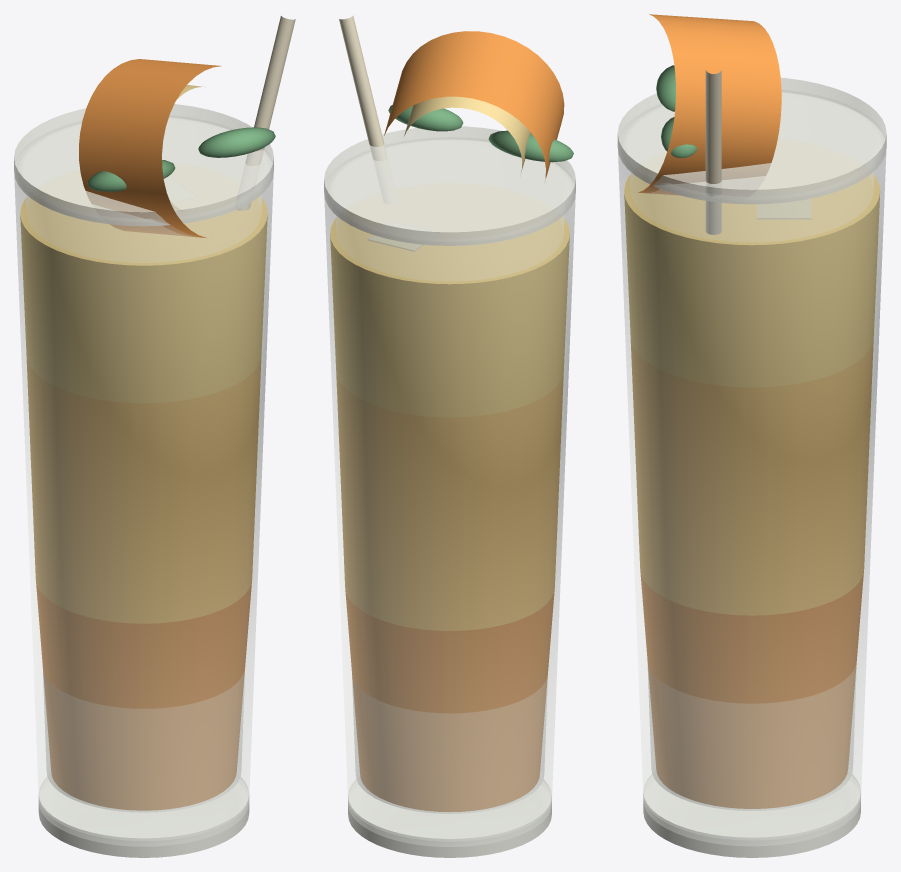
Rendered from cocktail-orange.glb.
The picture shows the model from 3 angles, left to right: view 1: azimuth 30°, elevation 25°; view 2: azimuth 150°, elevation 25°; view 3: azimuth 270°, elevation 25°; orthographic projection. The views are drawn at different scales.
Visible parts, largest first — view 1: Verre haut, Cocktail (×3), Bord du verre, Rondelle d’orange, Bague du pied, Pied du verre, Feuille de menthe (×2), Paille; view 2: Verre haut, Cocktail (×3), Bord du verre, Rondelle d’orange, Bague du pied, Pied du verre, Feuille de menthe (×2), Paille, Chair d’orange; view 3: Verre haut, Cocktail (×3), Bord du verre, Rondelle d’orange, Bague du pied, Pied du verre, Paille, Feuille de menthe (×2), Glaçon.
Part boxes in pixels (left/top/right/bottom): Verre haut: left=14, top=115, right=273, bottom=846; Cocktail (×3): left=20, top=196, right=267, bottom=810; Bord du verre: left=14, top=104, right=273, bottom=226; Rondelle d’orange: left=79, top=59, right=221, bottom=238; Bague du pied: left=38, top=774, right=249, bottom=857; Pied du verre: left=38, top=779, right=249, bottom=857; Feuille de menthe (×2): left=87, top=127, right=275, bottom=191; Paille: left=237, top=16, right=295, bottom=210; Verre haut: left=324, top=137, right=575, bottom=846; Cocktail (×3): left=330, top=216, right=569, bottom=811; Bord du verre: left=324, top=126, right=575, bottom=245; Rondelle d’orange: left=384, top=31, right=564, bottom=181; Bague du pied: left=348, top=776, right=551, bottom=857; Pied du verre: left=348, top=782, right=551, bottom=857; Feuille de menthe (×2): left=388, top=105, right=573, bottom=162; Paille: left=339, top=15, right=387, bottom=161; Chair d’orange: left=404, top=96, right=530, bottom=172; Verre haut: left=618, top=90, right=886, bottom=845; Cocktail (×3): left=624, top=173, right=880, bottom=808; Bord du verre: left=617, top=77, right=886, bottom=204; Rondelle d’orange: left=634, top=14, right=781, bottom=195; Bague du pied: left=643, top=770, right=860, bottom=857; Pied du verre: left=643, top=776, right=860, bottom=857; Paille: left=705, top=69, right=721, bottom=234; Feuille de menthe (×2): left=656, top=65, right=697, bottom=158; Glaçon: left=757, top=199, right=810, bottom=219.
Size of the model in its own units: 0.0853 by 0.26 by 0.0823.
